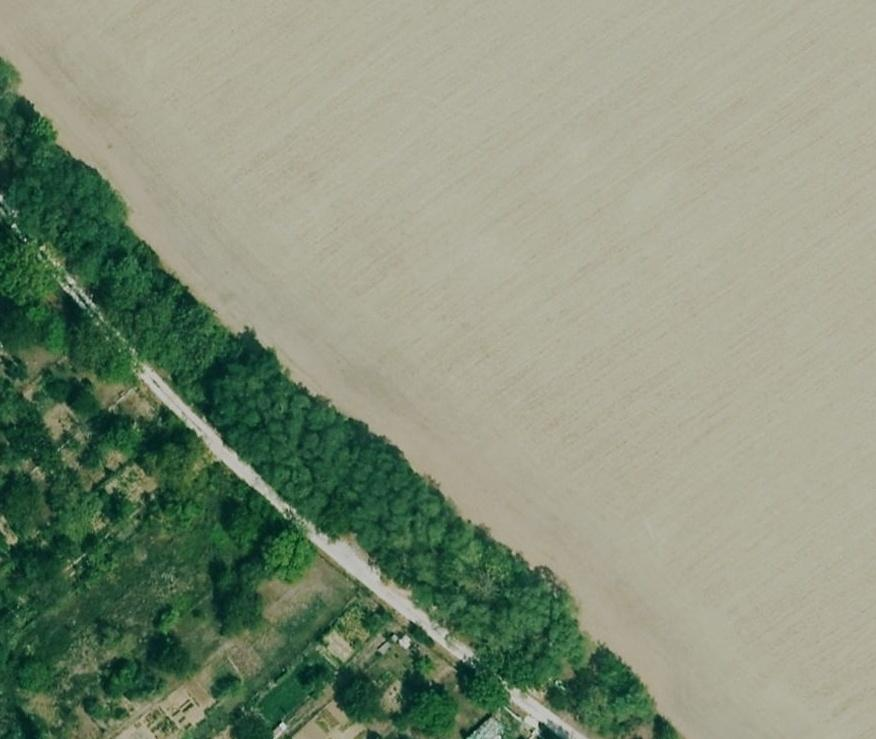field: (0, 67, 589, 687)
forest: (0, 2, 875, 737), (0, 219, 315, 737)
